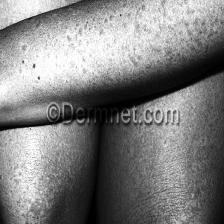Benign Marking or Mole: (53, 26, 158, 77), (20, 43, 45, 86)
